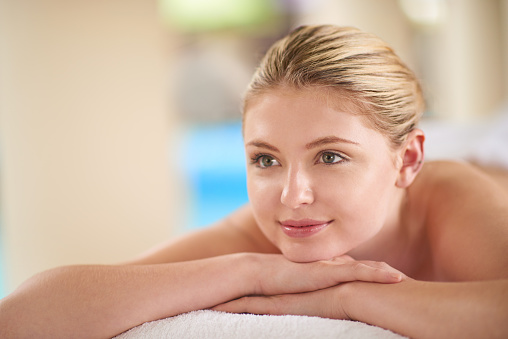deitado: (31, 49, 498, 336)
